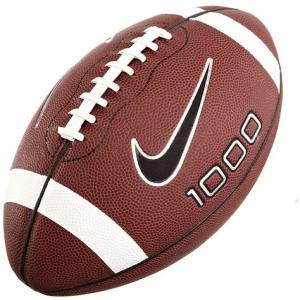Rugby: (4, 6, 283, 296)
